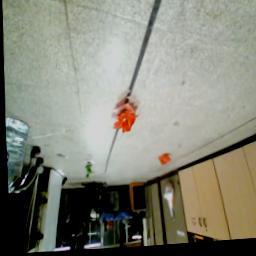herb: (82, 163, 94, 182)
wild: (111, 112, 141, 138), (158, 158, 172, 171)
